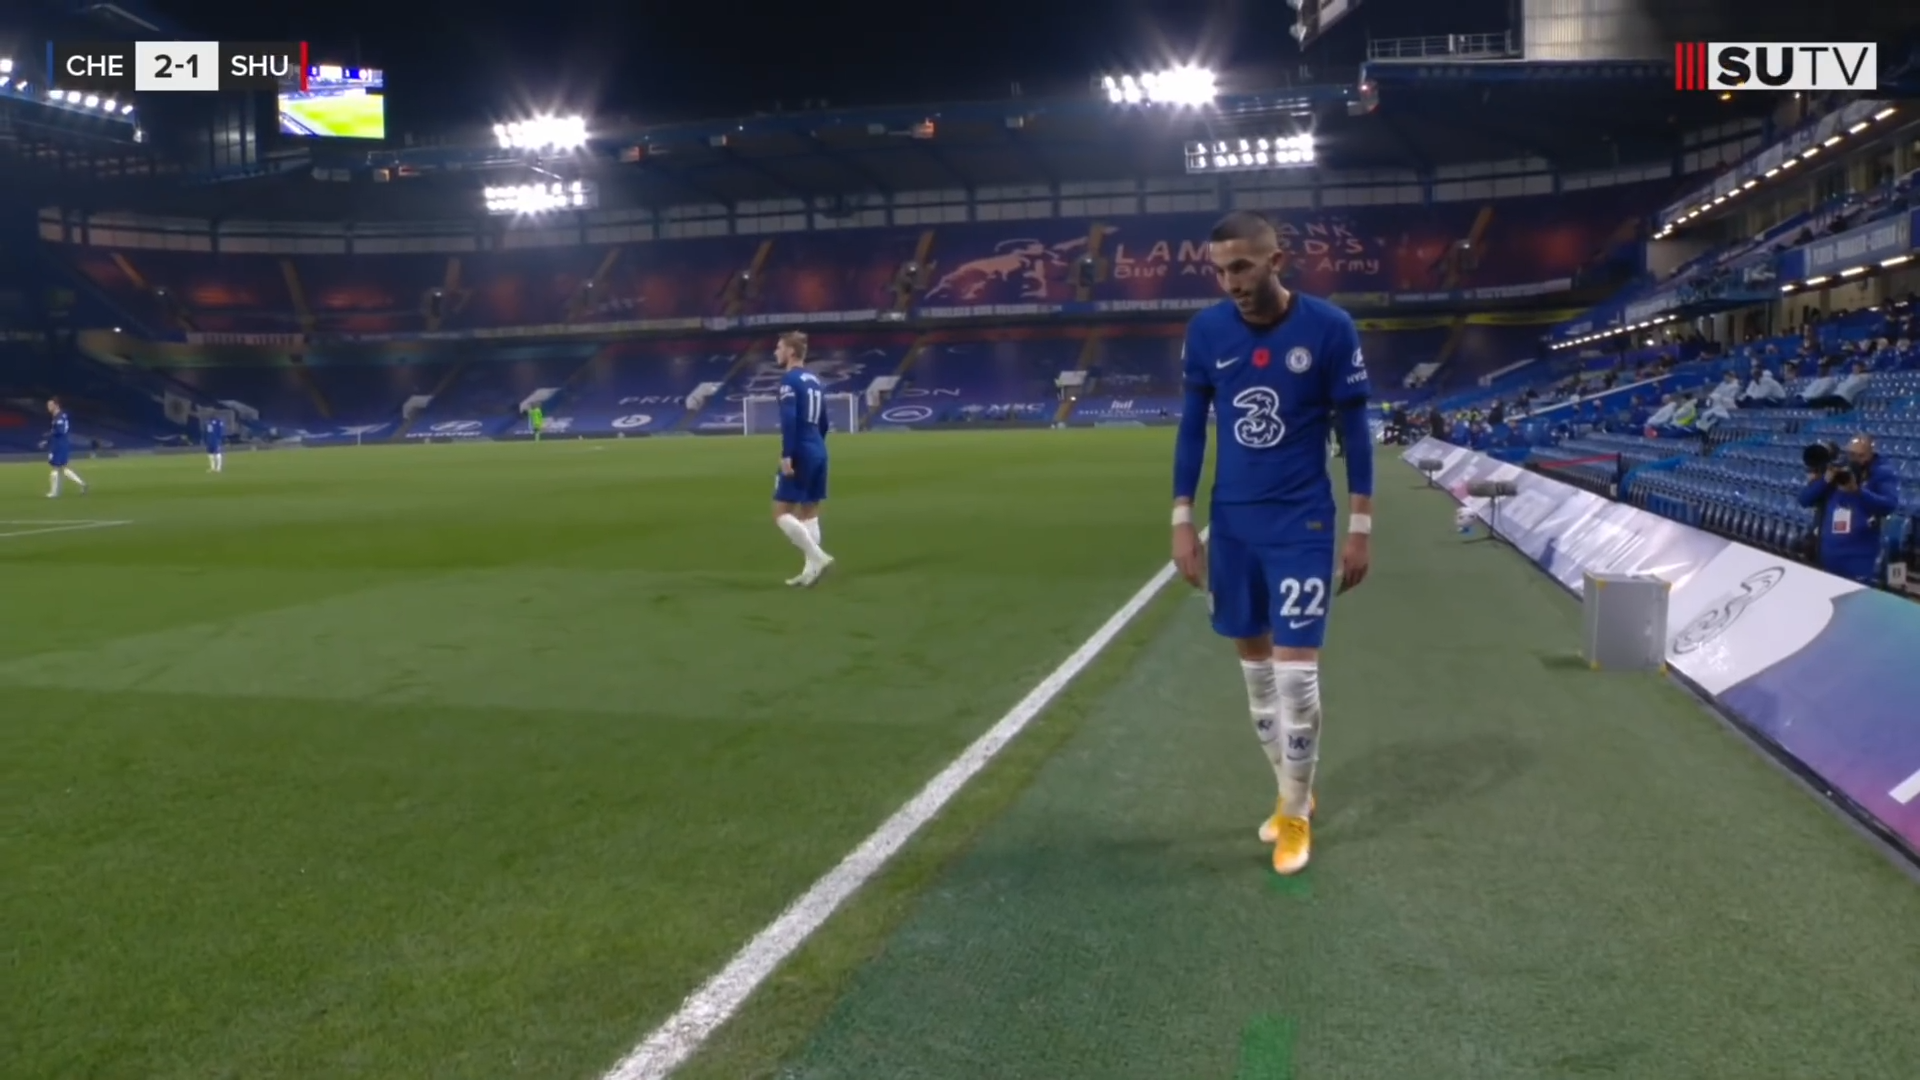Player: (1147, 193, 1377, 871), (757, 323, 846, 593)
